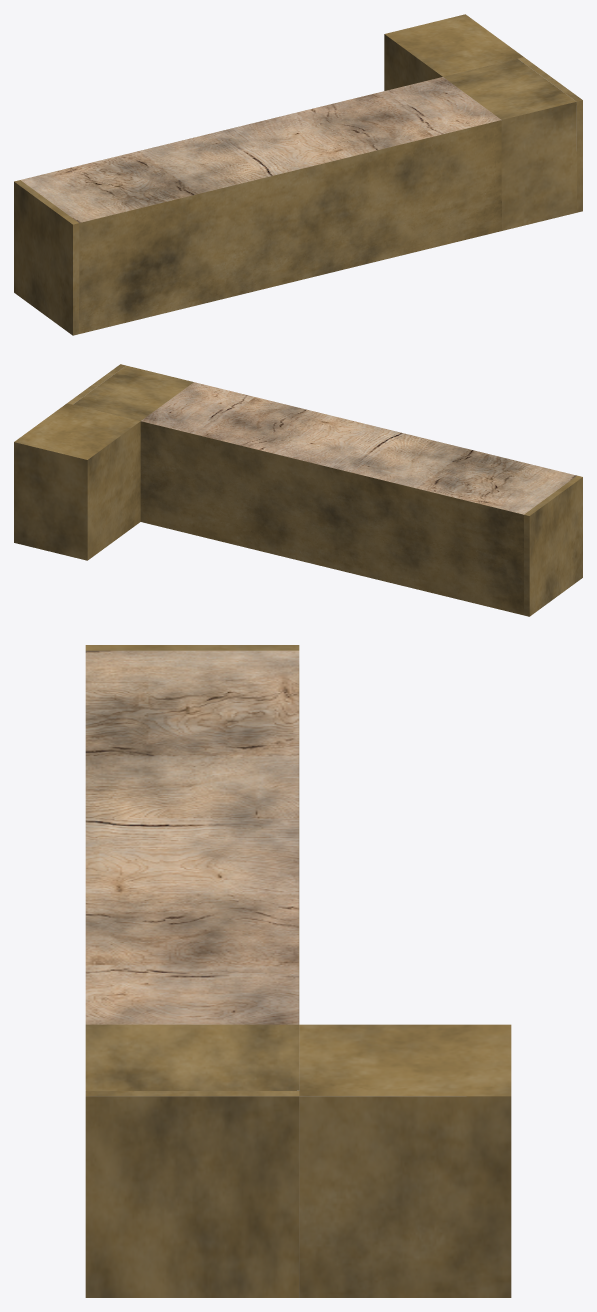
File: Cashier Dessk.obj
3 renders of one model, top to bottom at view 1: azimuth 30°, elevation 25°; view 2: azimuth 150°, elevation 25°; view 3: azimuth 270°, elevation 25°, orthographic. The views are drawn at different scales.
Visible parts, largest first — view 1: Cube_Cube.009; view 2: Cube_Cube.009; view 3: Cube_Cube.009.
Boxes of the visible parts, bbox=[...] form: Cube_Cube.009: bbox=[14, 14, 582, 335]; Cube_Cube.009: bbox=[14, 364, 582, 616]; Cube_Cube.009: bbox=[85, 645, 511, 1297].
Bounding box in the file's own units: 4.8 × 1 × 1.92.
